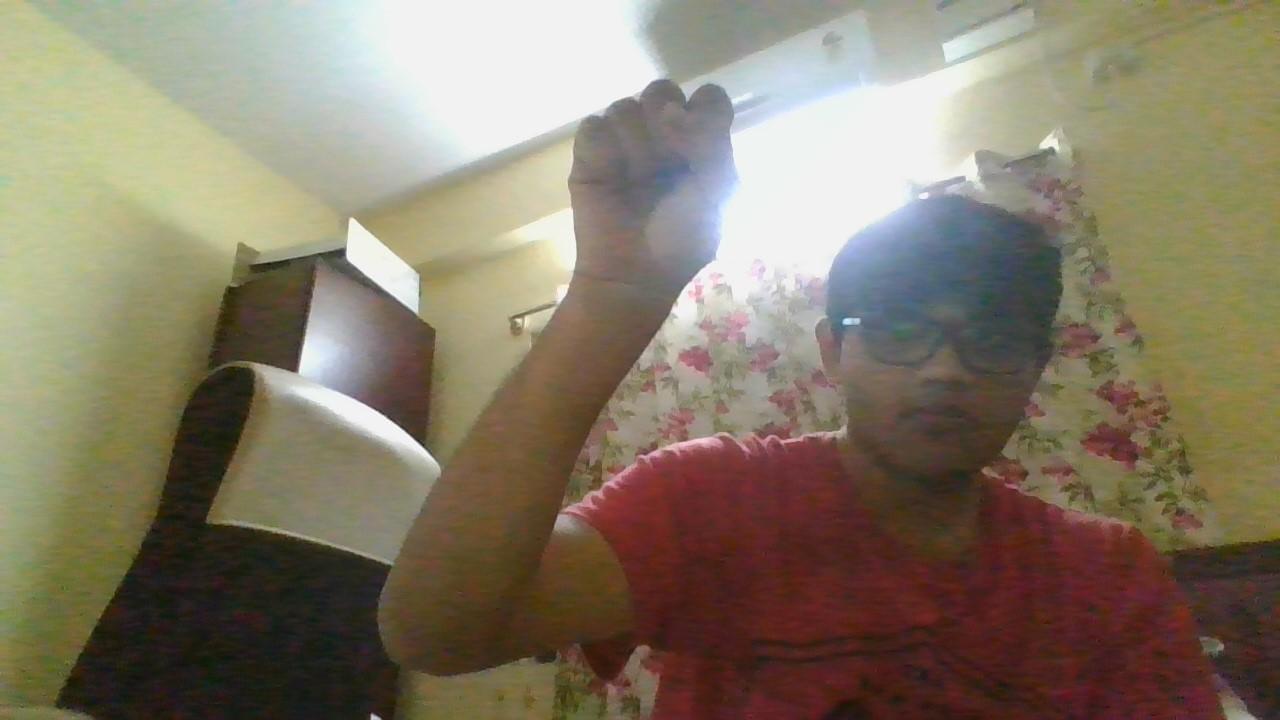s: (563, 71, 742, 293)
